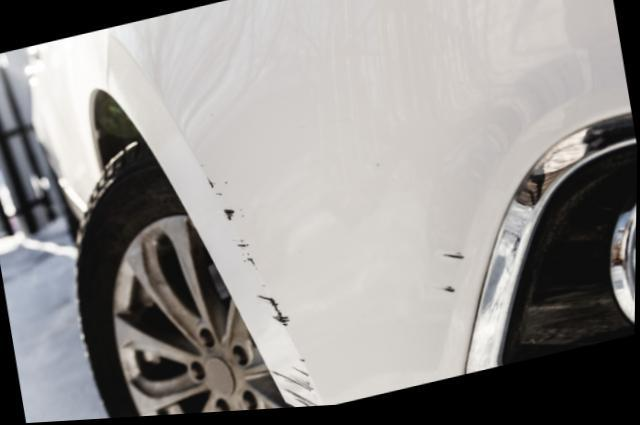scratch: (206, 178, 325, 411), (430, 249, 472, 308)
